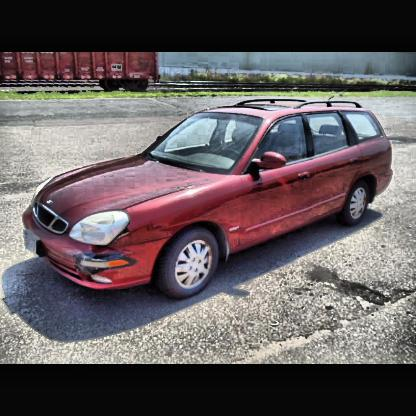Daewoo Nubira Wagon 2002: (24, 99, 395, 303)
